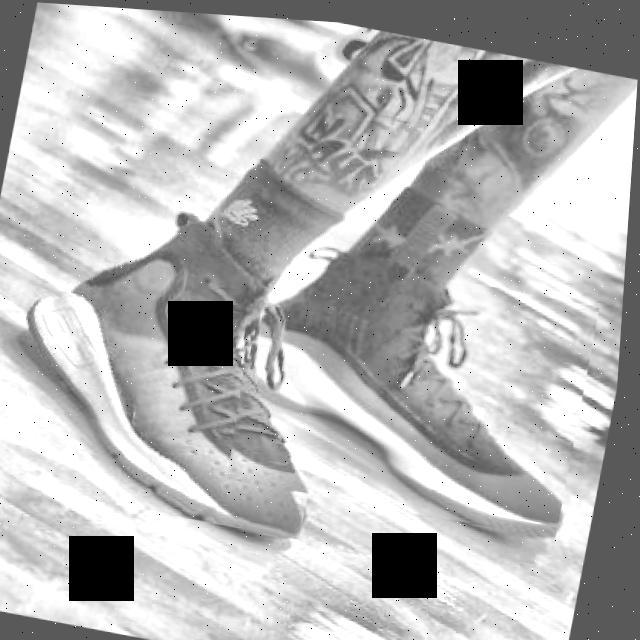shoe: (4, 200, 359, 536), (222, 237, 605, 534)
